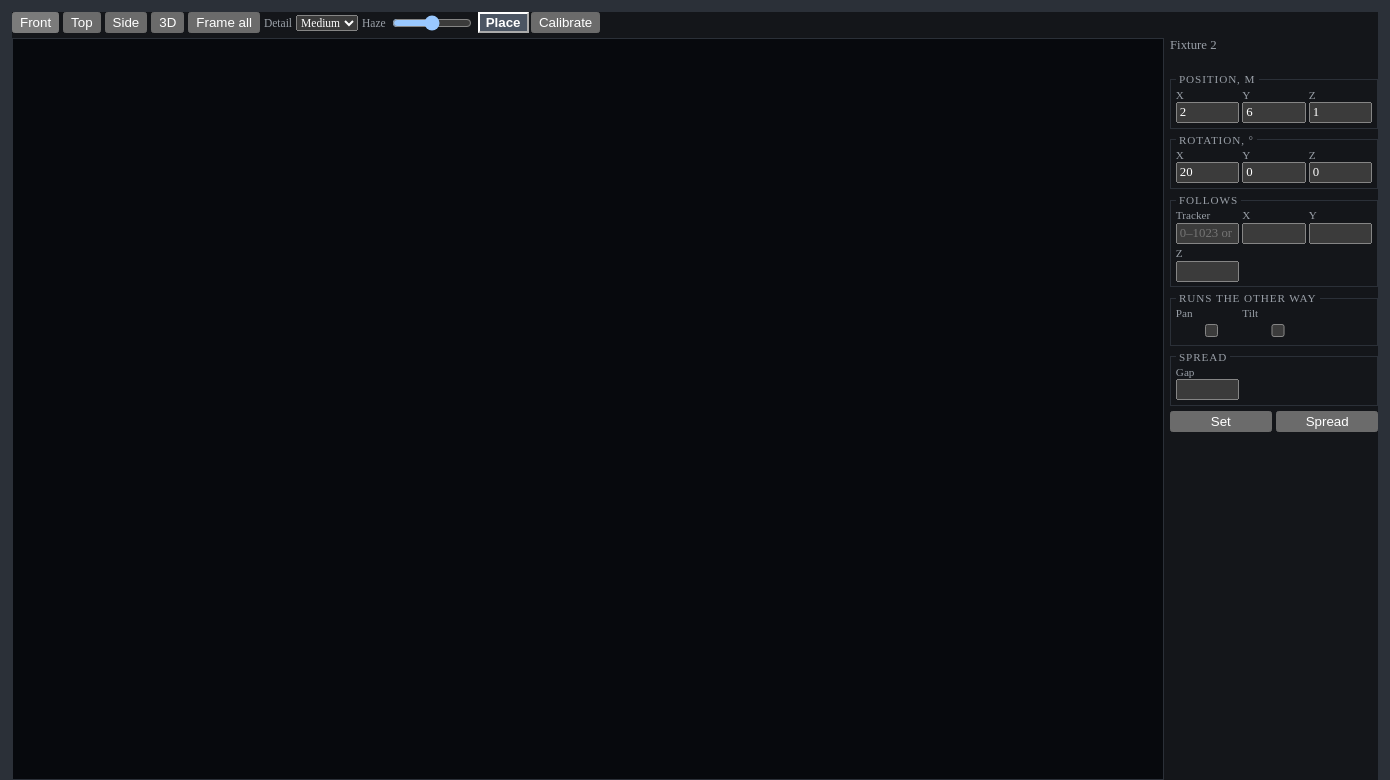
Test: the place panel › refuses a field that is not a number, and names one fixture as itself
Expected: the text with test id "viewer-place-selection" reads "Fixture 2", [1170,38,1217,52]
Replace the text in the field with test id "viewer-place-z" with "deep" at x=1341, y=113, box [1309,102,1372,123]
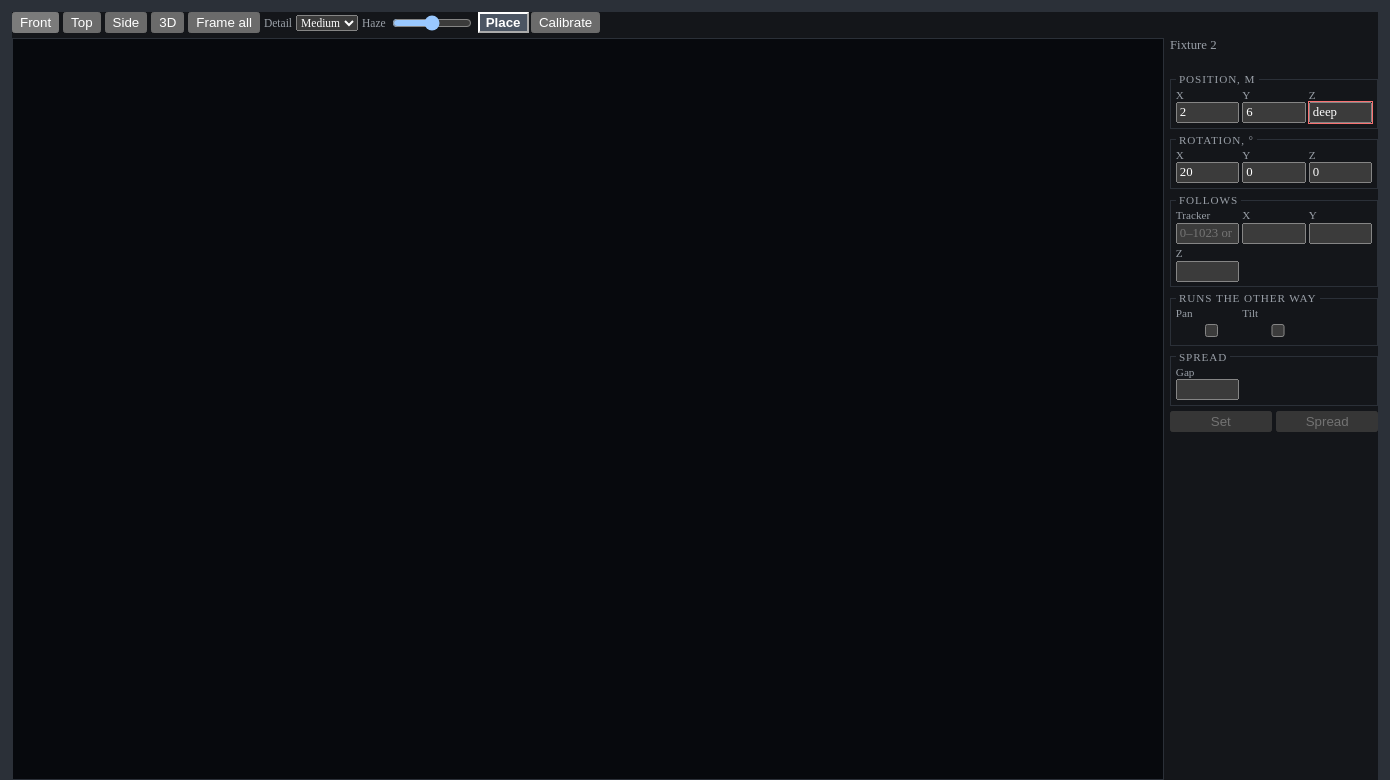
Expected: the button with test id "viewer-place-set" is disabled, [1170,411,1272,432]
